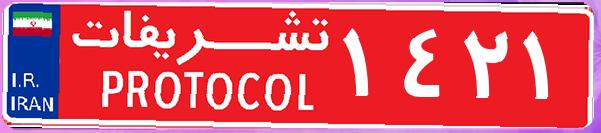1: (340, 20, 400, 115), (520, 20, 580, 115)
2: (460, 20, 520, 115)
4: (400, 20, 460, 115)
تشریفات: (60, 8, 340, 125)
